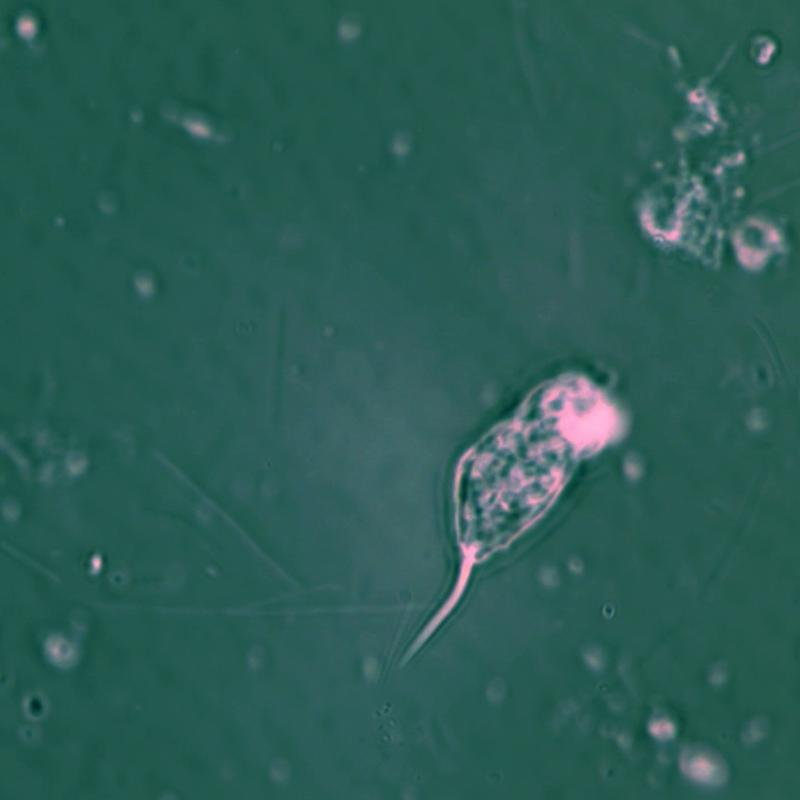depth:0: (365, 337, 670, 688)
